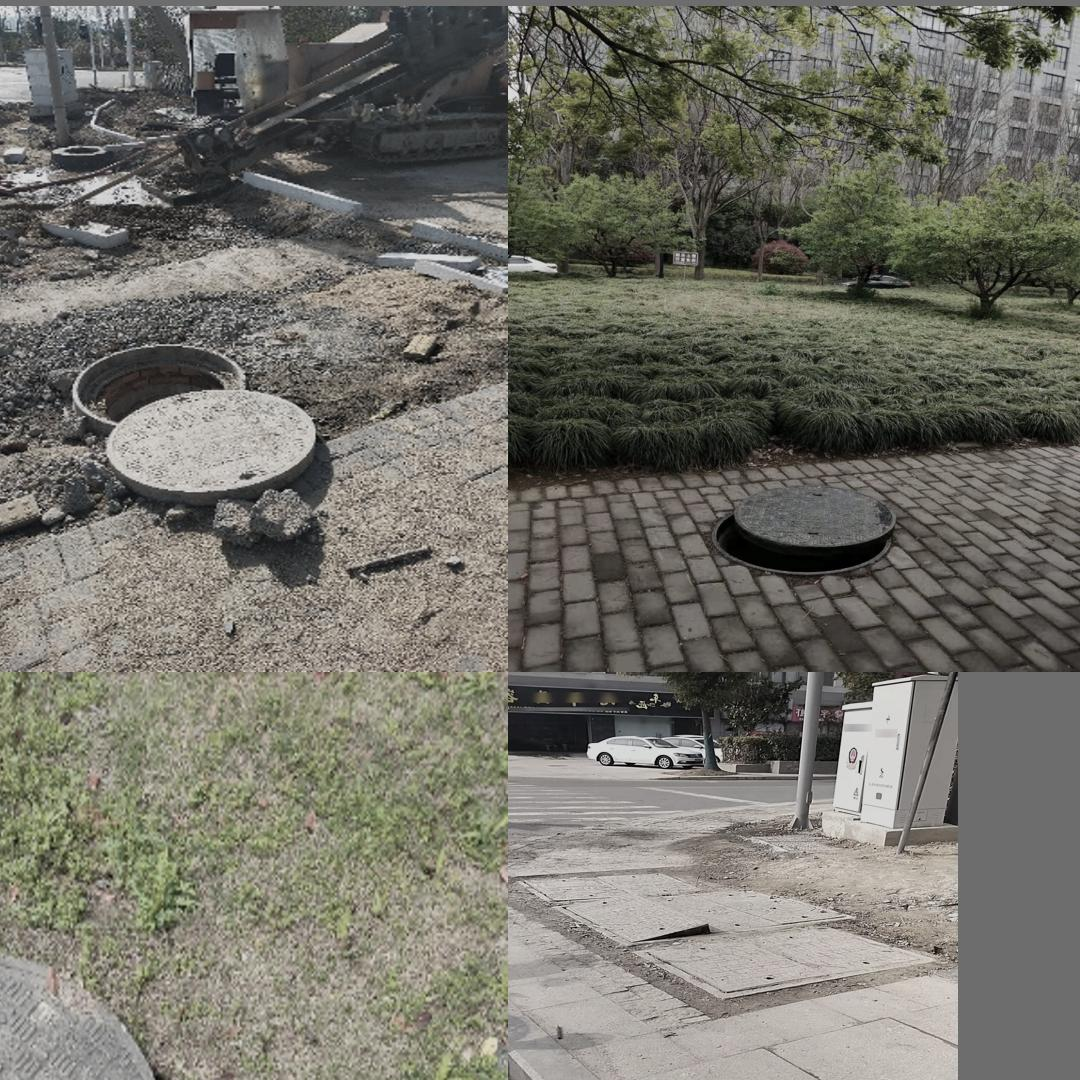good: (632, 925, 940, 1002)
uncovered: (70, 341, 317, 501), (0, 951, 305, 1080), (699, 471, 913, 591), (552, 886, 858, 947)
